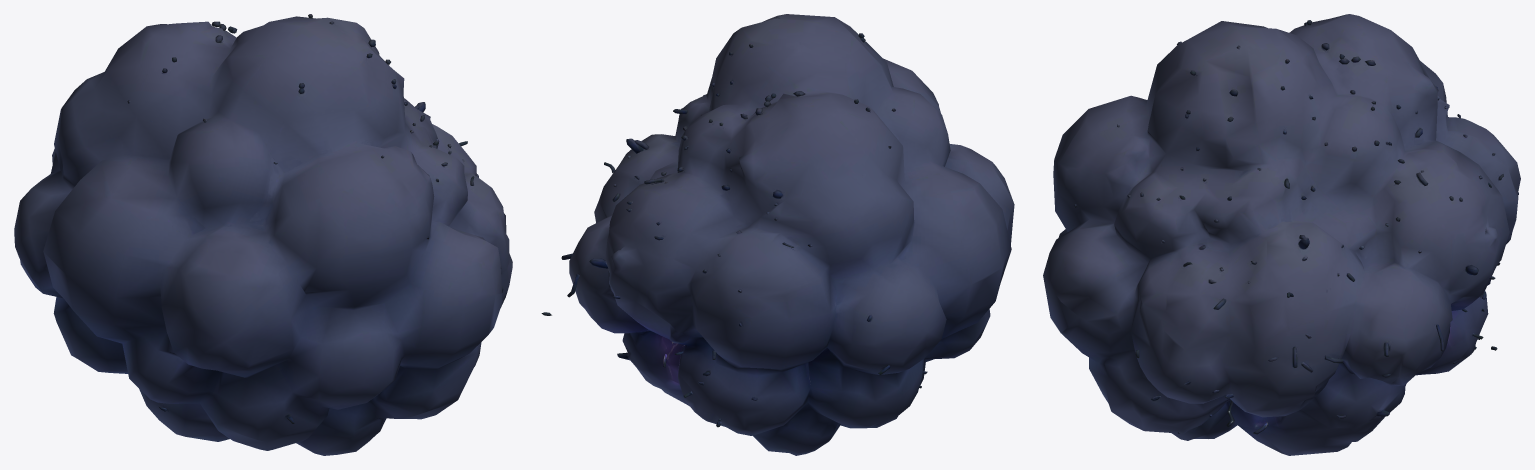
File: storm-cloud.glb
The picture shows the model from 3 angles, left to right: view 1: azimuth 30°, elevation 25°; view 2: azimuth 150°, elevation 25°; view 3: azimuth 270°, elevation 25°; orthographic projection. The views are drawn at different scales.
Parts seen in each view (by area): view 1: tripo_node_142a3c63-8343-4a85-a851-4246e2029a67; view 2: tripo_node_142a3c63-8343-4a85-a851-4246e2029a67; view 3: tripo_node_142a3c63-8343-4a85-a851-4246e2029a67.
Boxes of the visible parts, x1,y1,x2,y2 form: tripo_node_142a3c63-8343-4a85-a851-4246e2029a67: (14,14,512,455); tripo_node_142a3c63-8343-4a85-a851-4246e2029a67: (541,14,1014,455); tripo_node_142a3c63-8343-4a85-a851-4246e2029a67: (1043,14,1520,455).
Bounding box in the file's own units: 0.9922 × 0.9217 × 1.
1 material, 1 textured.
